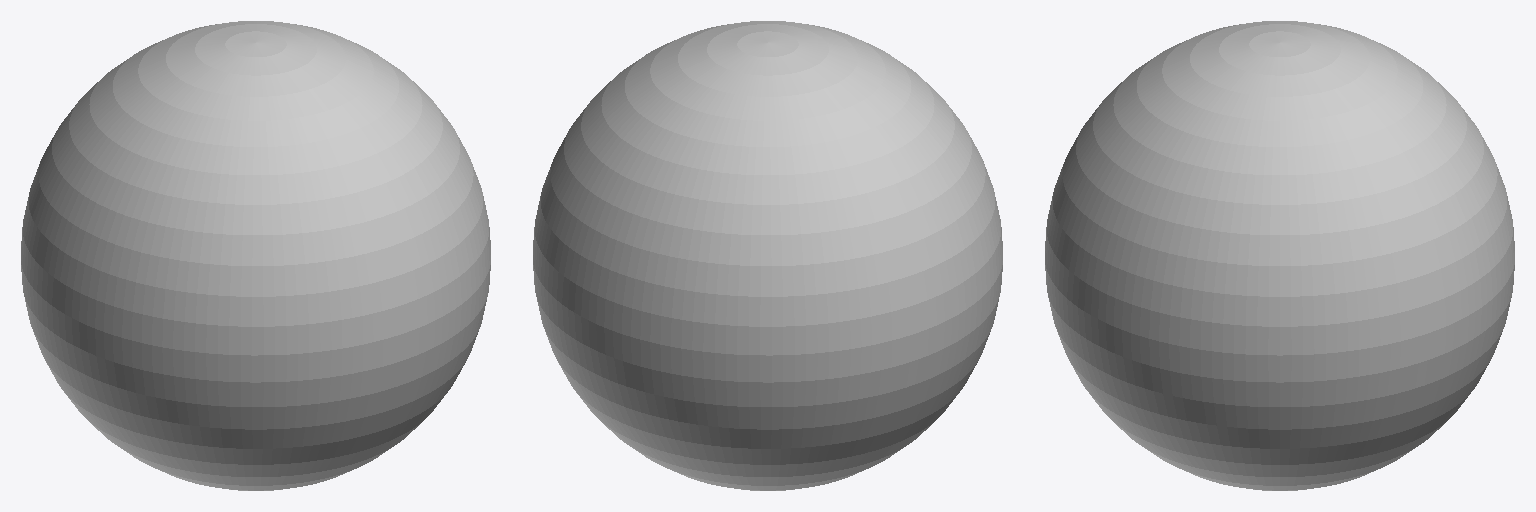
Rendered from Sun.obj.
The picture shows the model from 3 angles: view 1: azimuth 30°, elevation 25°; view 2: azimuth 150°, elevation 25°; view 3: azimuth 270°, elevation 25°; orthographic projection.
Parts seen in each view (by area): view 1: Sphere_Material.002_0.007; view 2: Sphere_Material.002_0.007; view 3: Sphere_Material.002_0.007.
Part boxes in pixels (bbox=[...]): Sphere_Material.002_0.007: bbox=[21, 21, 490, 490]; Sphere_Material.002_0.007: bbox=[533, 21, 1002, 490]; Sphere_Material.002_0.007: bbox=[1045, 21, 1514, 490].
Size of the model in its own units: 865 by 865 by 865.